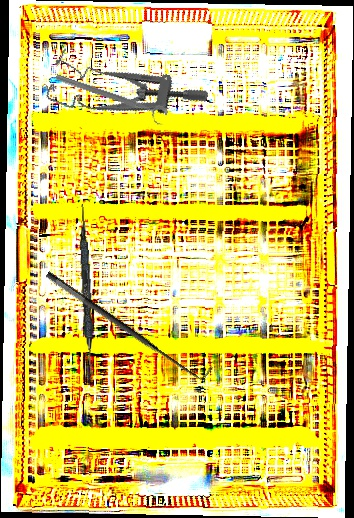Fixation Ring: (51, 70, 170, 128)
Hook Surgical: (44, 258, 213, 388)
Spatula Surgical: (75, 203, 98, 383)
Speculum: (42, 35, 210, 153)
